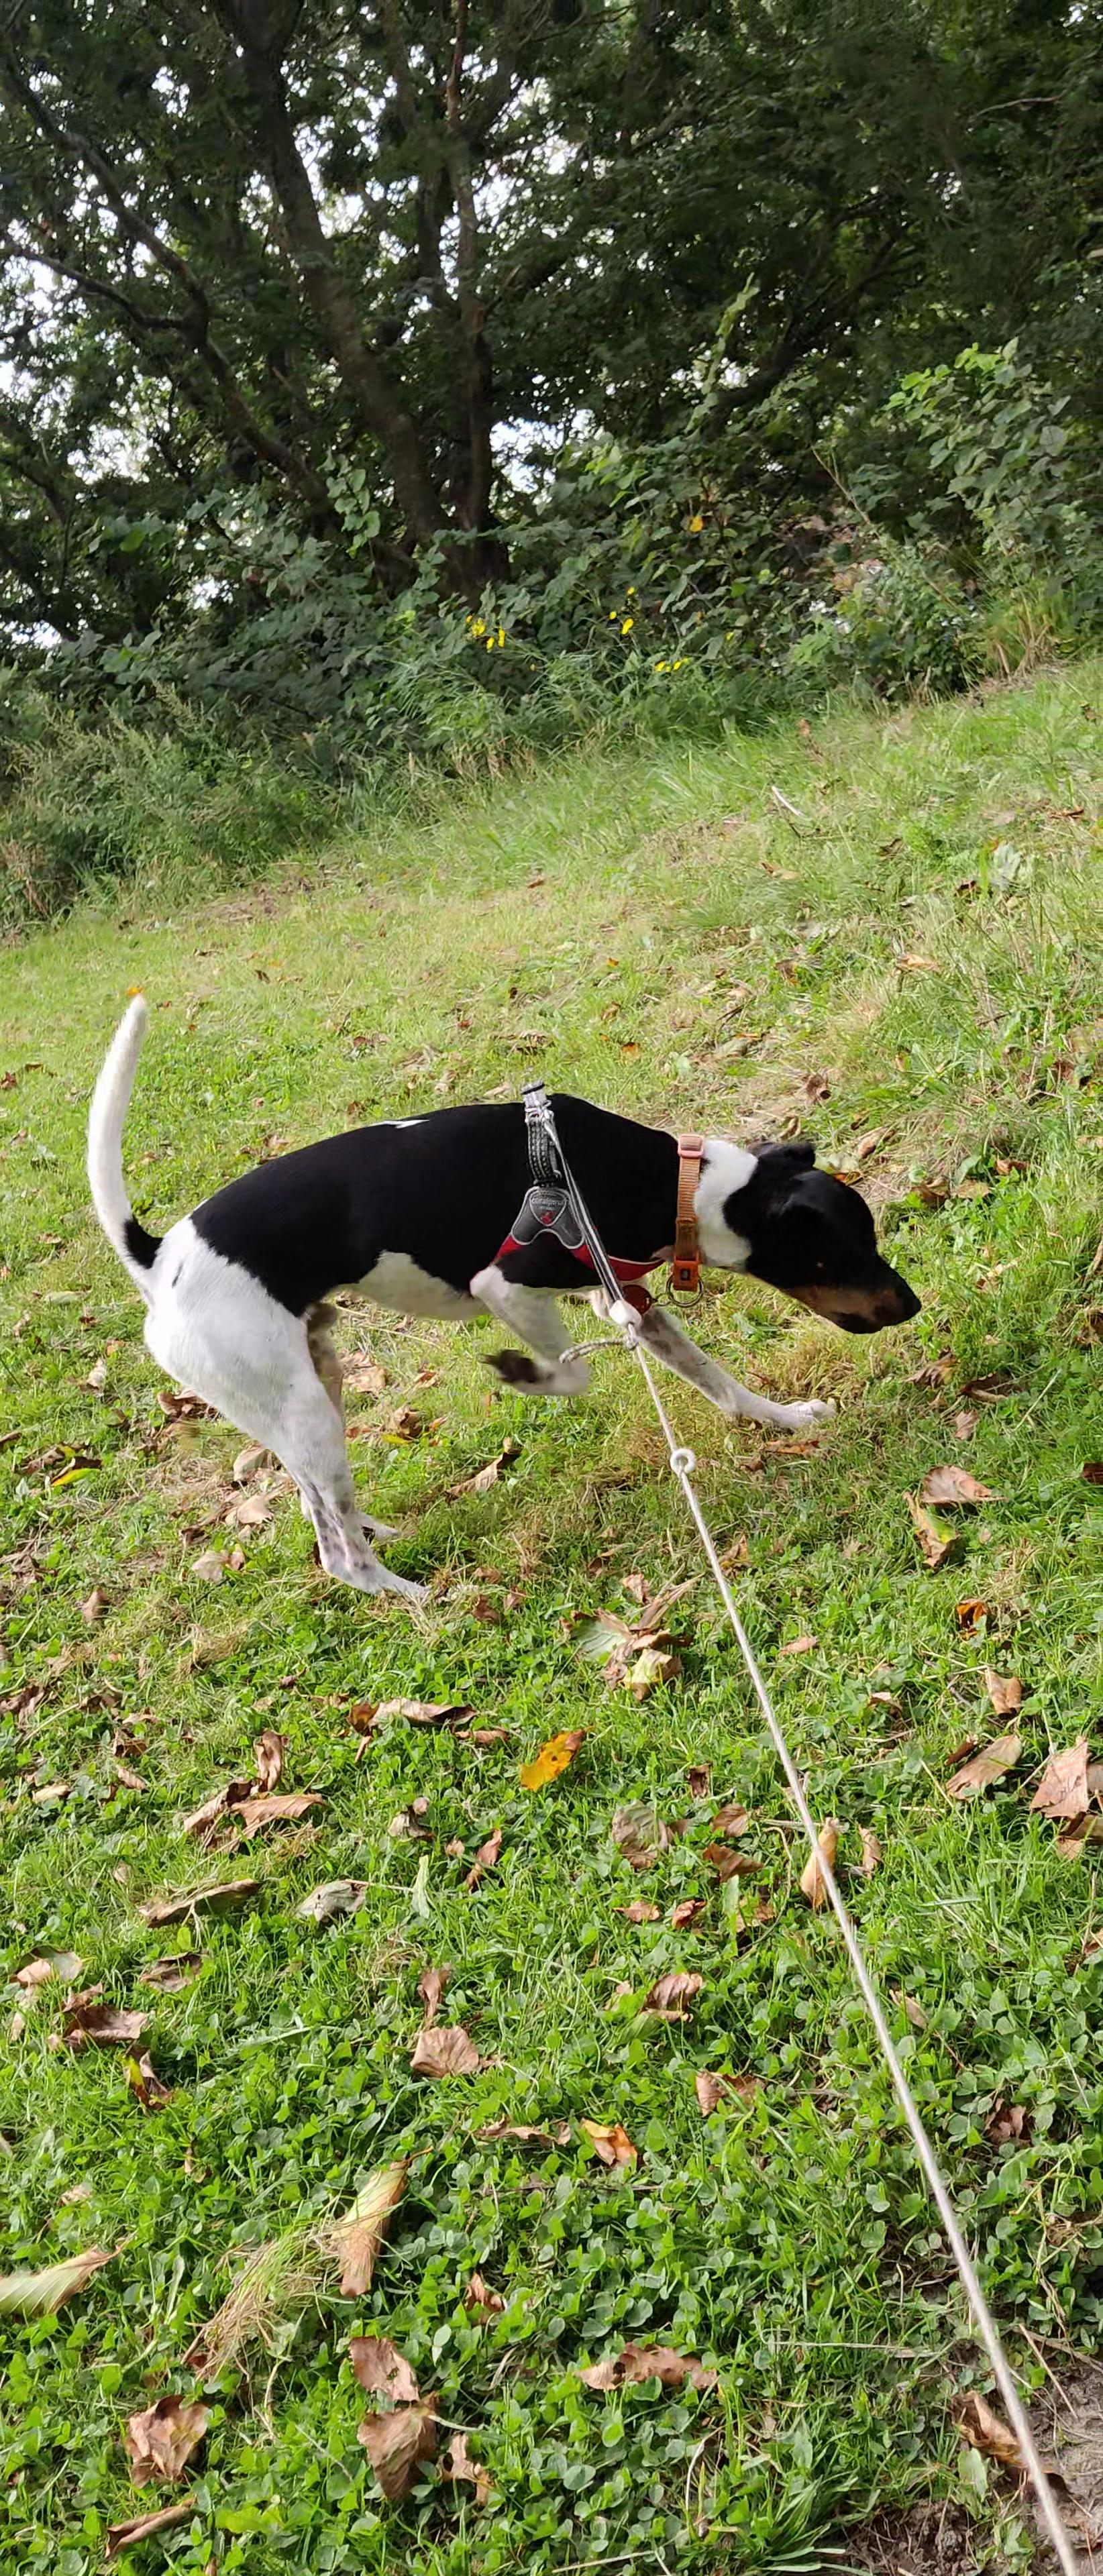Dog: (82, 989, 927, 1605)
